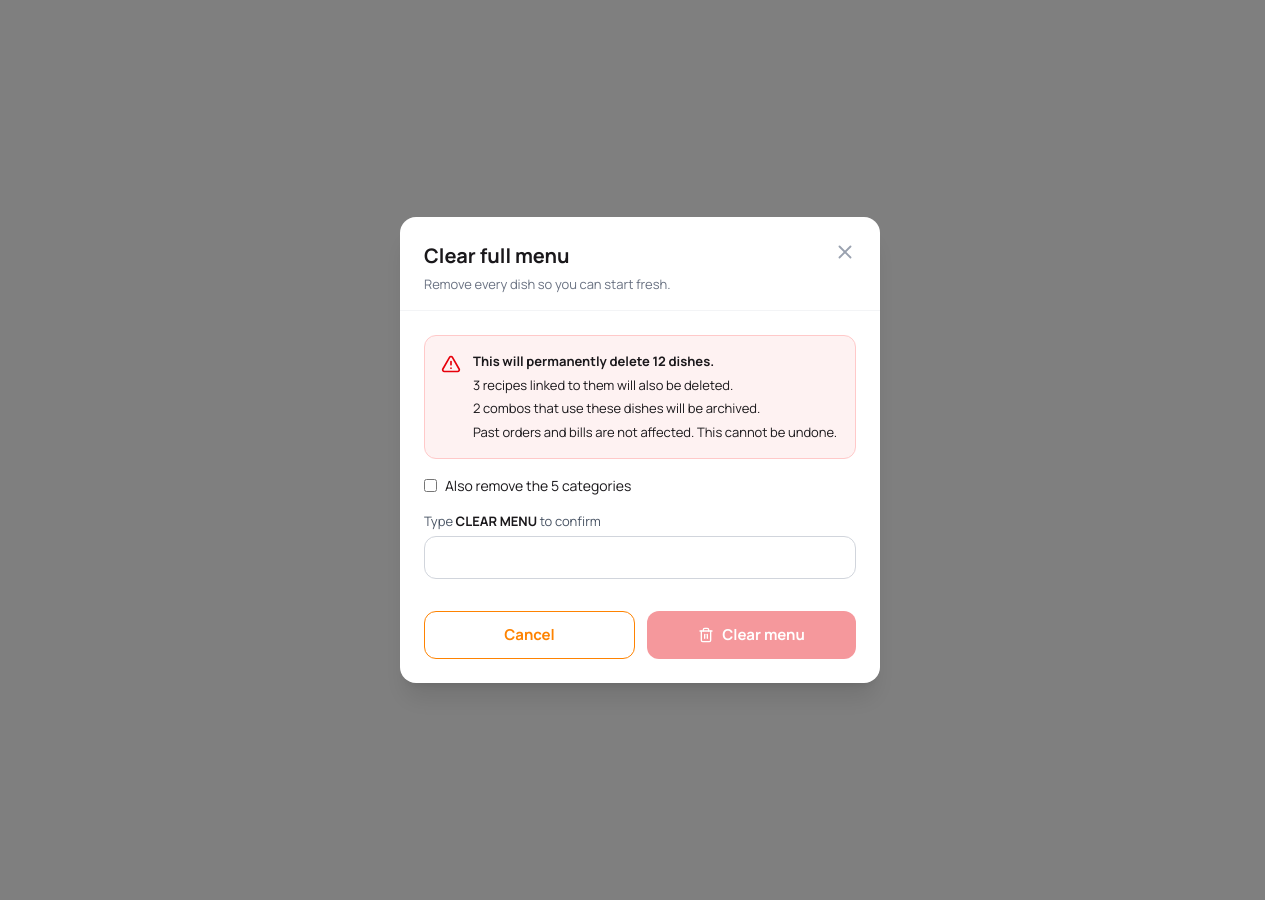
Test: shows what will be removed and keeps the button disabled until the phrase is typed
This screenshot has width=1280, height=900.
Expected: the element with test id "clear-summary" shows "12 dishes", x1=473 y1=352 x2=837 y2=442
Expected: the element with test id "clear-summary" shows "3 recipes", x1=473 y1=352 x2=837 y2=442
Type "clear men" into the field labelled "Type CLEAR MENU to confirm" at (640,557), box x1=424 y1=536 x2=856 y2=579
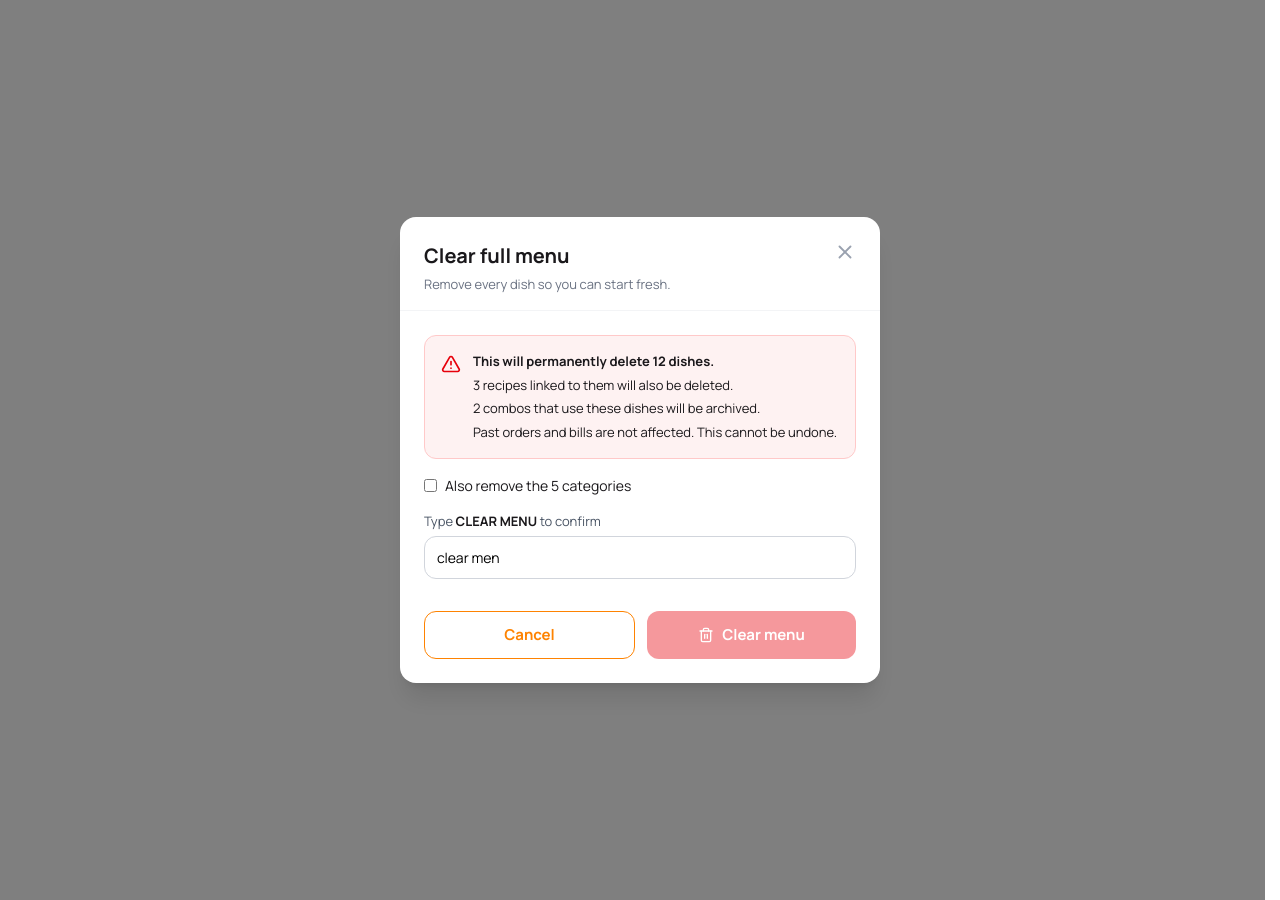
Expected: the button "Clear menu" is disabled, x1=647 y1=611 x2=856 y2=659
Replace the text in the field labelled "Type CLEAR MENU to confirm" with "clear menu" at (640,557), box x1=424 y1=536 x2=856 y2=579
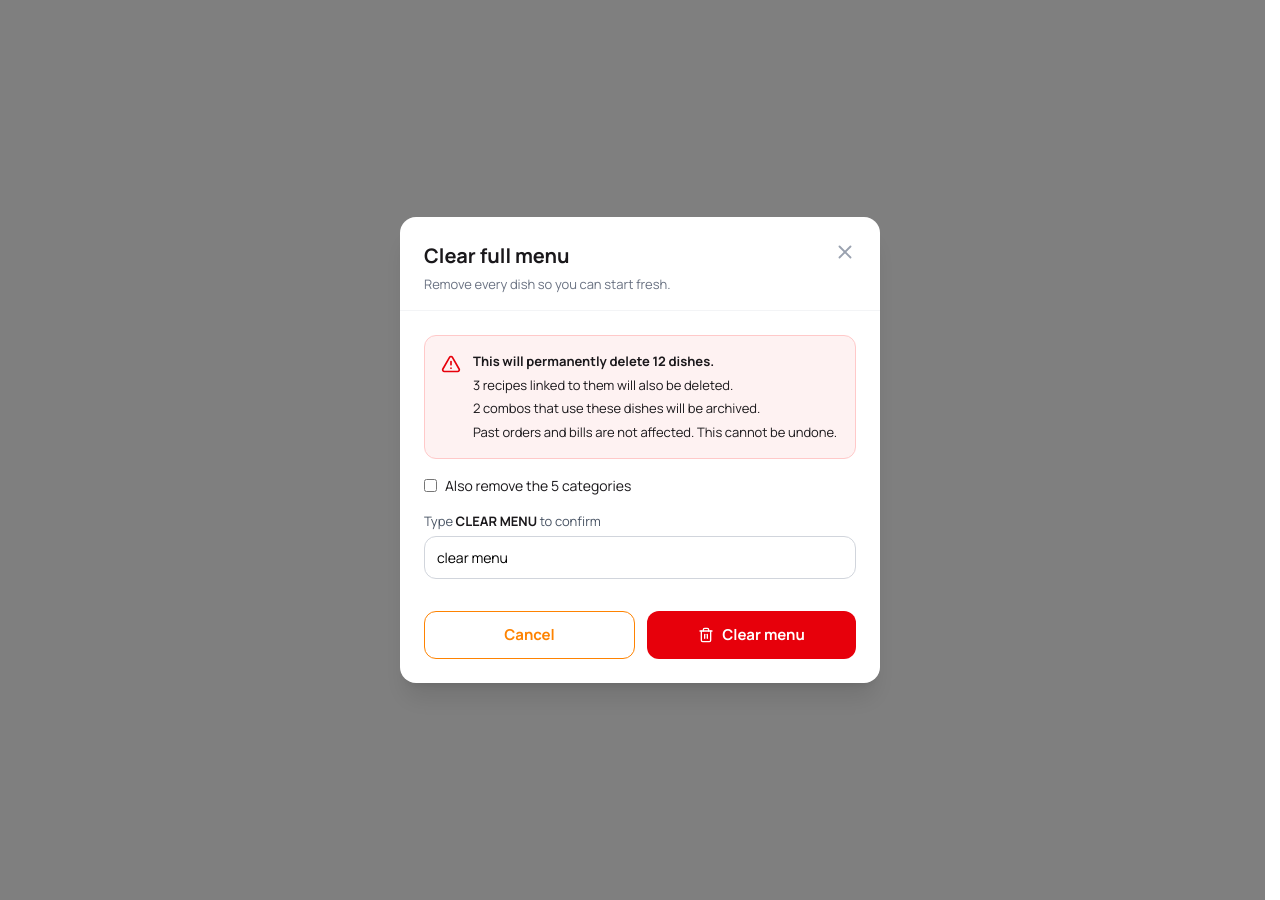
Now the button "Clear menu" is enabled, box x1=647 y1=611 x2=856 y2=659
